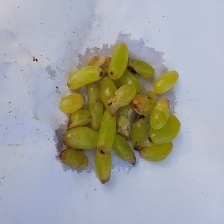grapes: (55, 39, 190, 212)
